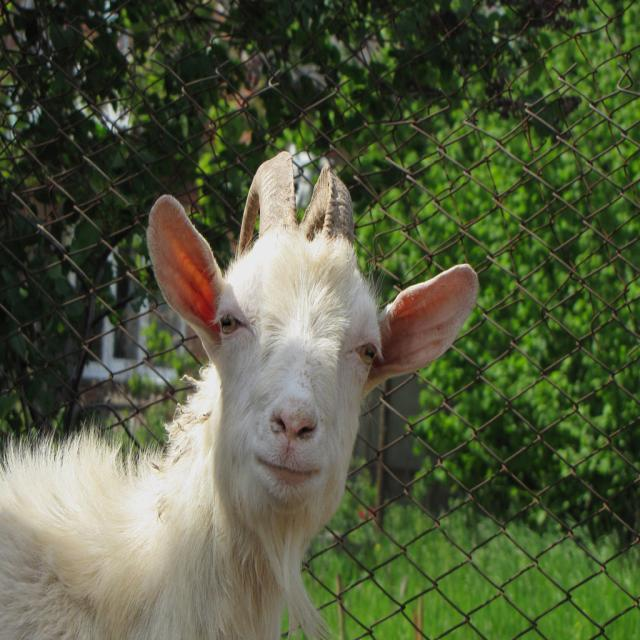Goat: (0, 150, 479, 639)
